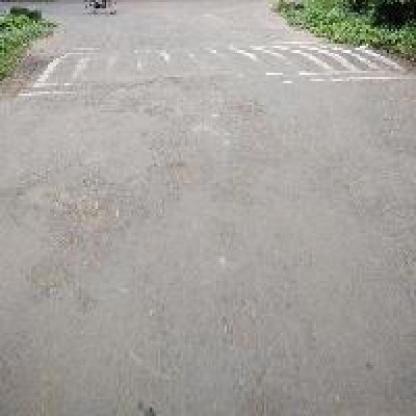Speed Bump: (12, 39, 414, 100)
